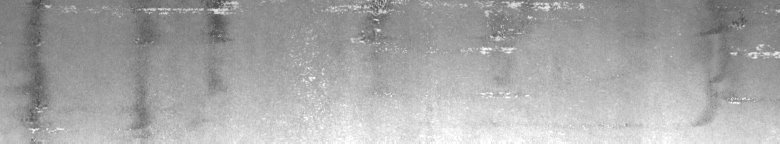hc: (700, 9, 776, 104)
